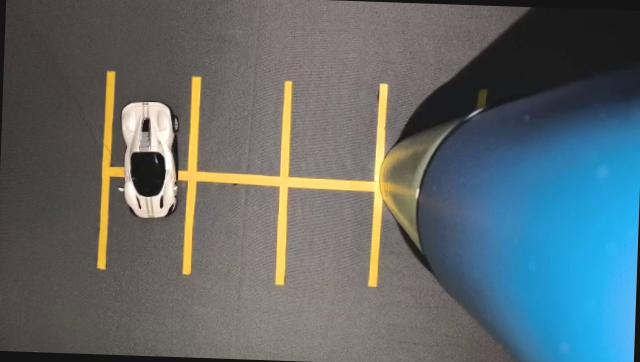toy_car: (106, 89, 202, 232)
